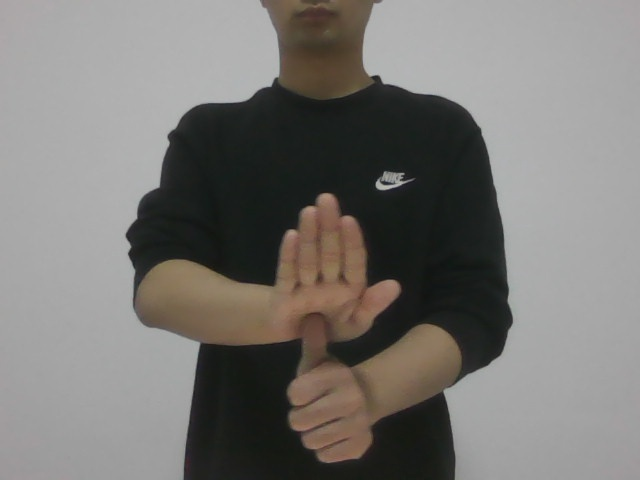love: (258, 180, 409, 474)
